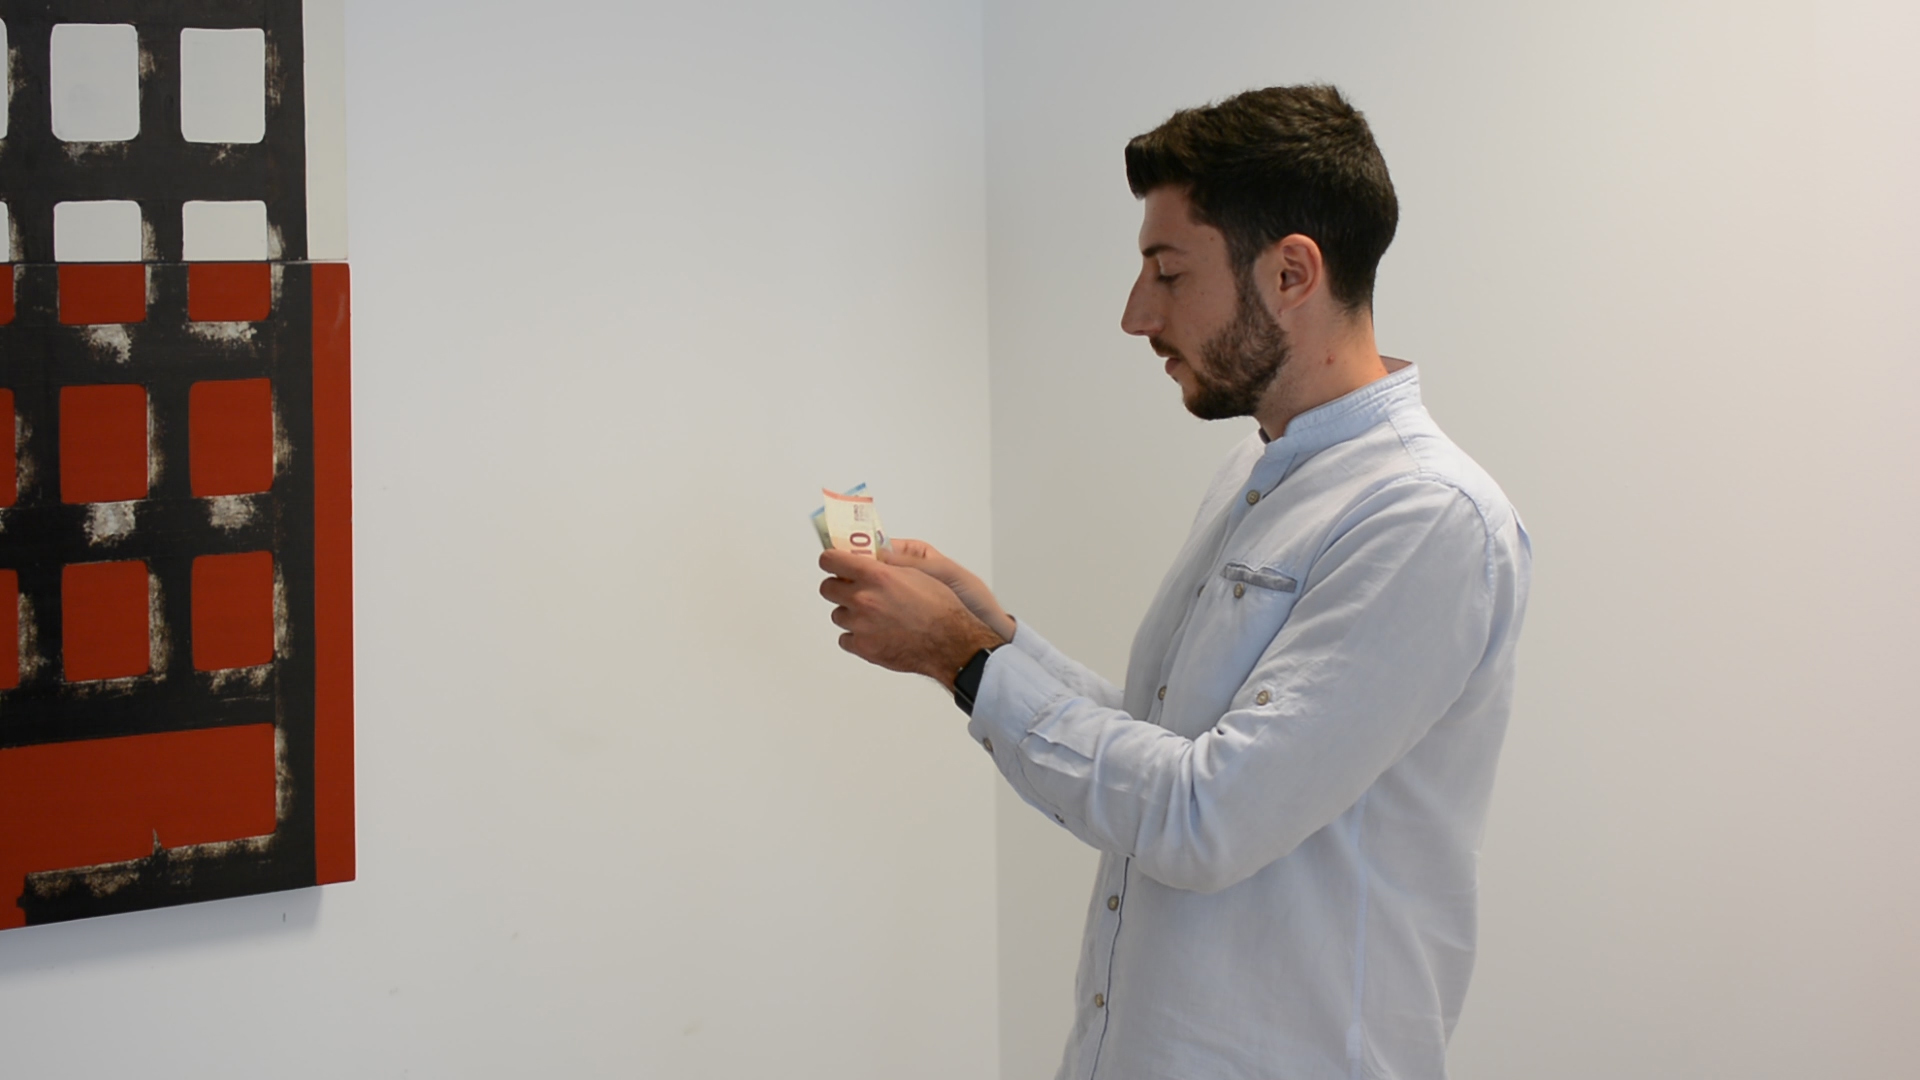billete: (808, 481, 895, 564)
